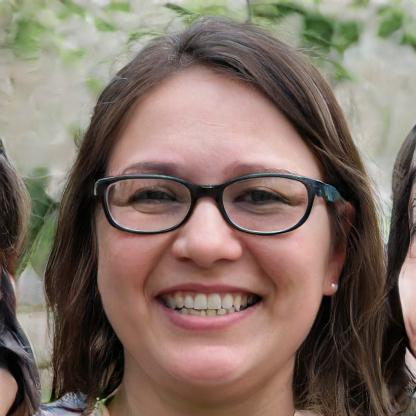glasses: (92, 170, 322, 240)
